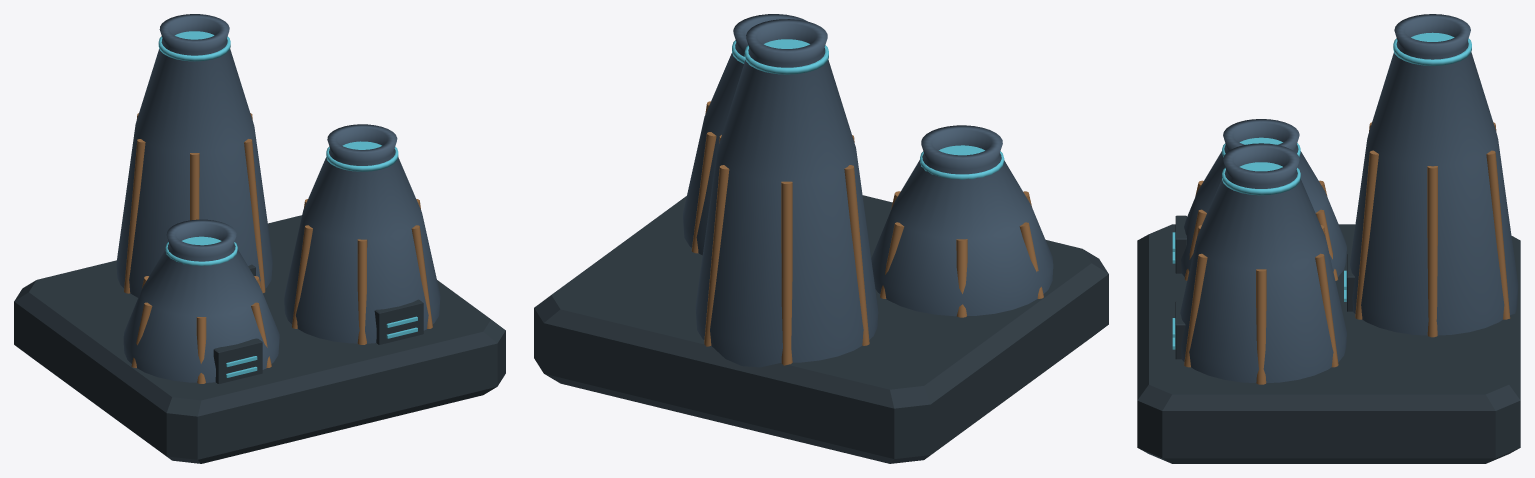
Rendered from ignis_kiln_battery.glb.
3 views of the same model, side by side, from view 1: azimuth 30°, elevation 25°; view 2: azimuth 150°, elevation 25°; view 3: azimuth 270°, elevation 25° (orthographic). The views are drawn at different scales.
Visible parts, largest first — view 1: ignis_kiln_battery; view 2: ignis_kiln_battery; view 3: ignis_kiln_battery.
Part boxes in pixels (box(x1,y1,x2,y2)): ignis_kiln_battery: box(14, 14, 505, 463); ignis_kiln_battery: box(534, 14, 1108, 463); ignis_kiln_battery: box(1137, 14, 1520, 463).
Bounding box in the file's own units: 19 × 16.6 × 17.
